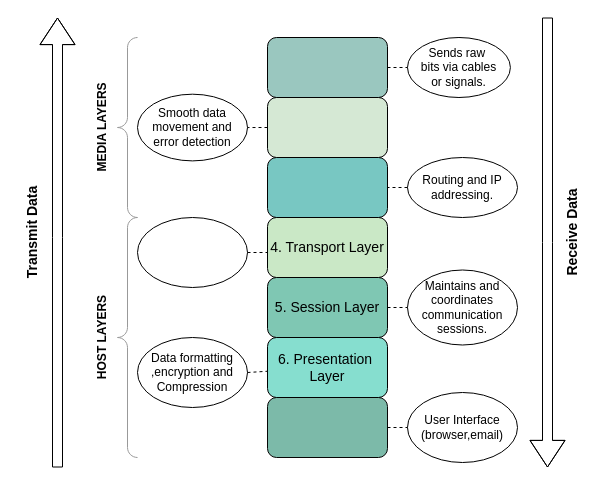
Some shapes in this 604 by 484 pixel diagram are drawn without their labels. The centre of each missing label's shape, as x and y in pixels:
"1. Physical Layer" goes at (x=327, y=67).
"2. Data-link Layer" goes at (x=327, y=127).
"3. Network Layer" goes at (x=327, y=187).
"7. Application Layer" goes at (x=327, y=427).
"End-to-end Connections and Reliable data Transfer." goes at (x=192, y=252).
